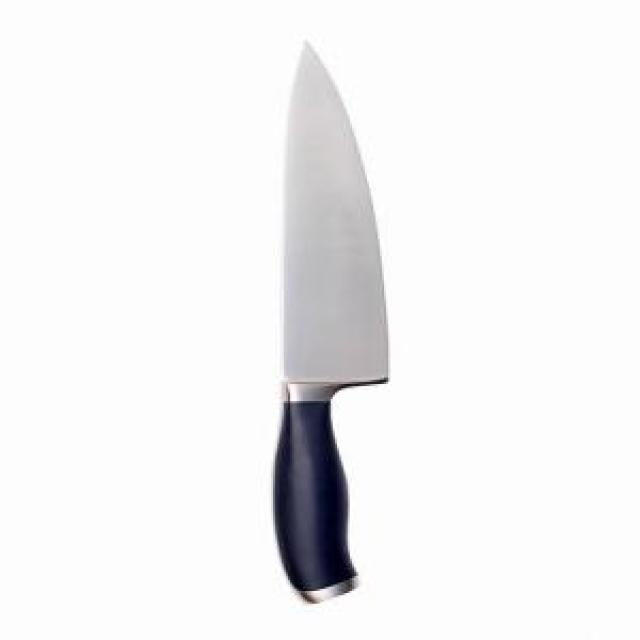knife: (267, 42, 405, 604)
